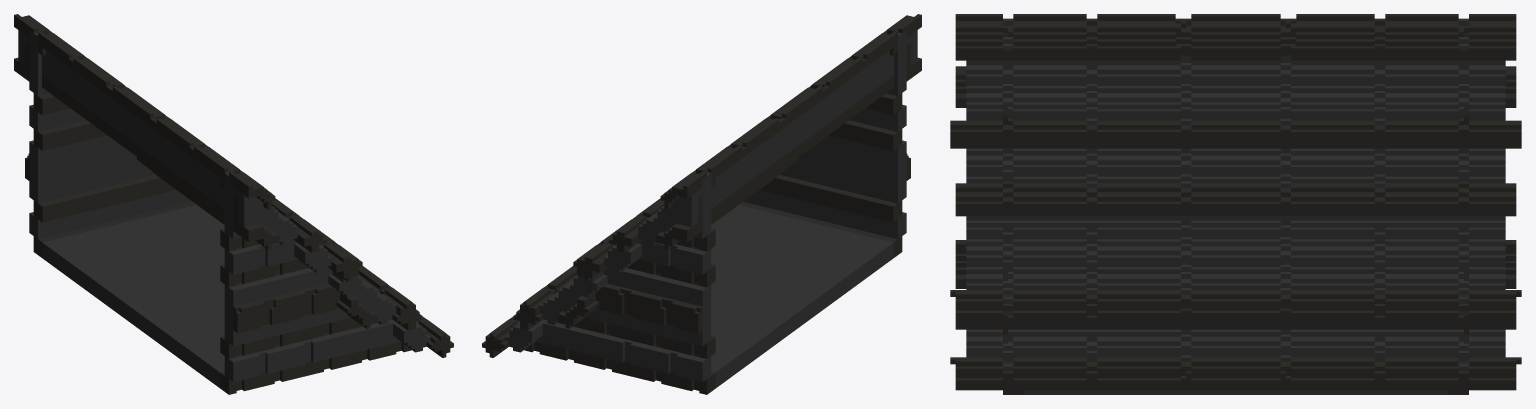
The model's file is RoofFullFilledStone.obj.
3 renders of one model, left to right at view 1: azimuth 30°, elevation 25°; view 2: azimuth 150°, elevation 25°; view 3: azimuth 270°, elevation 25°, orthographic. The views are drawn at different scales.
Bounding box in the file's own units: 5.4 × 5.6 × 10.9.
1 material, 1 textured.
